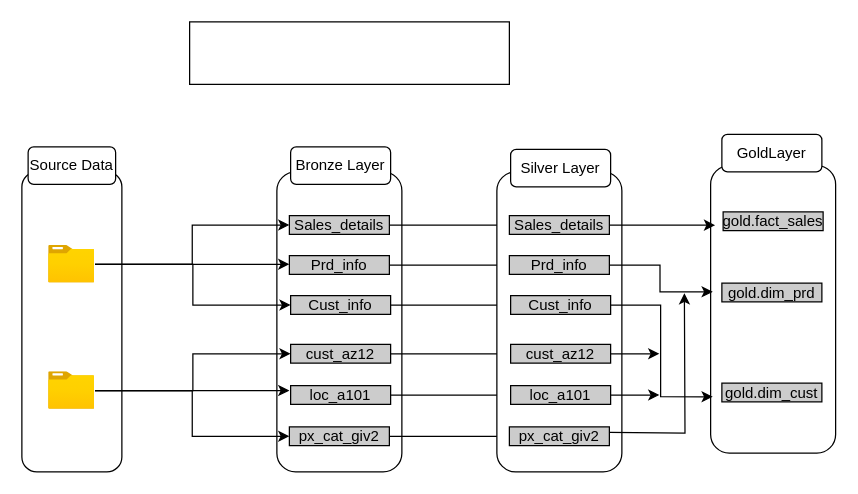
This 858x494 diagram has some shape labels left out. Each missing label, with the centre of its shape:
crm: point 71,263
Erp: point 71,390
Flow Diagram: point 348,52
